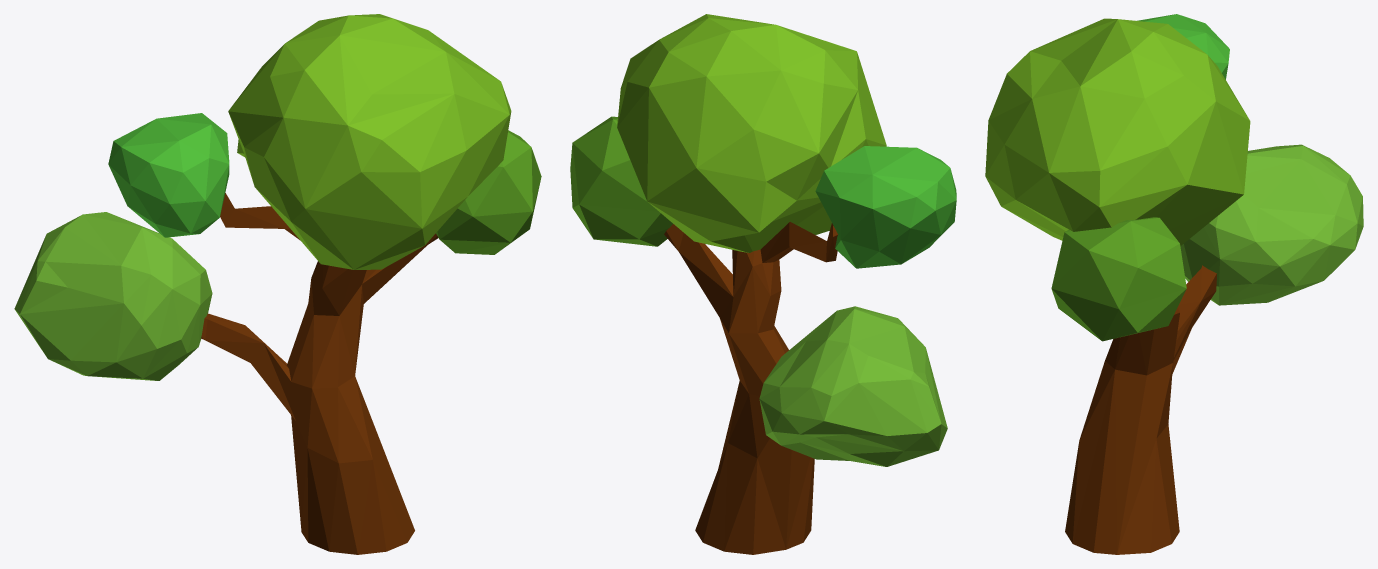
File: tree_felix.fbx
The picture shows the model from 3 angles, left to right: view 1: azimuth 30°, elevation 25°; view 2: azimuth 150°, elevation 25°; view 3: azimuth 270°, elevation 25°; orthographic projection.
Visible parts, largest first — view 1: Icosphere.002; view 2: Icosphere.002; view 3: Icosphere.002.
Boxes of the visible parts, x1=… form: Icosphere.002: x1=14, y1=14, x2=541, y2=554; Icosphere.002: x1=570, y1=14, x2=956, y2=554; Icosphere.002: x1=985, y1=14, x2=1363, y2=554.
Size of the model in its own units: 8.95 by 9.68 by 6.6.
